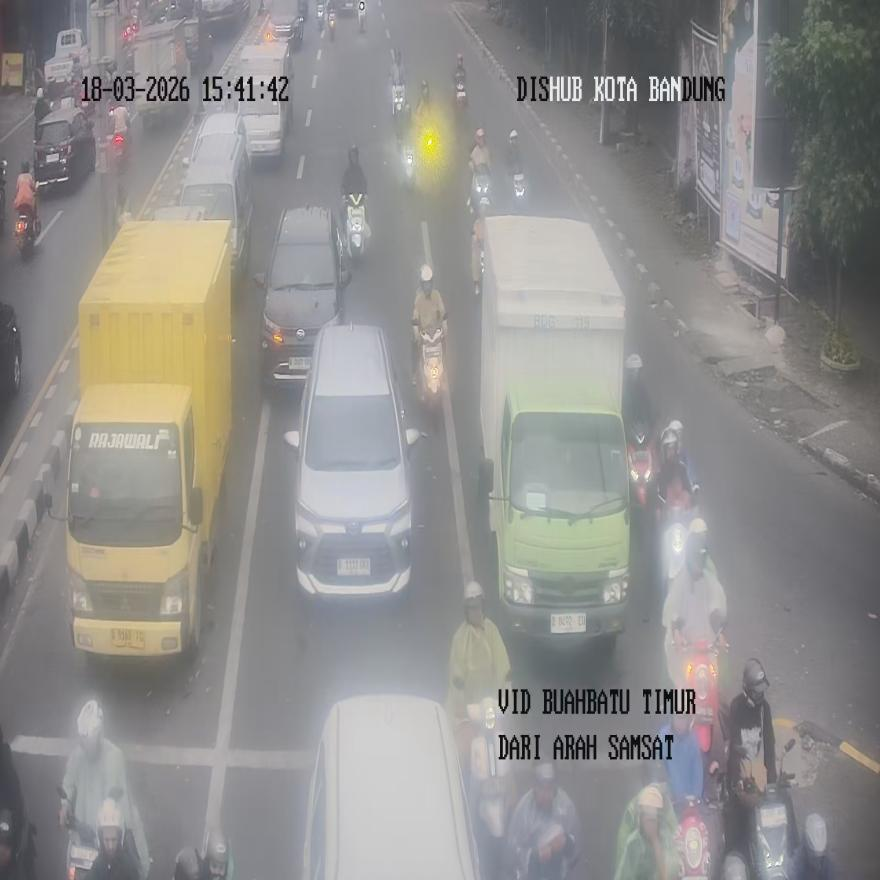Motor: (284, 324, 420, 599), (302, 694, 480, 880), (254, 204, 351, 388), (179, 109, 252, 284)
